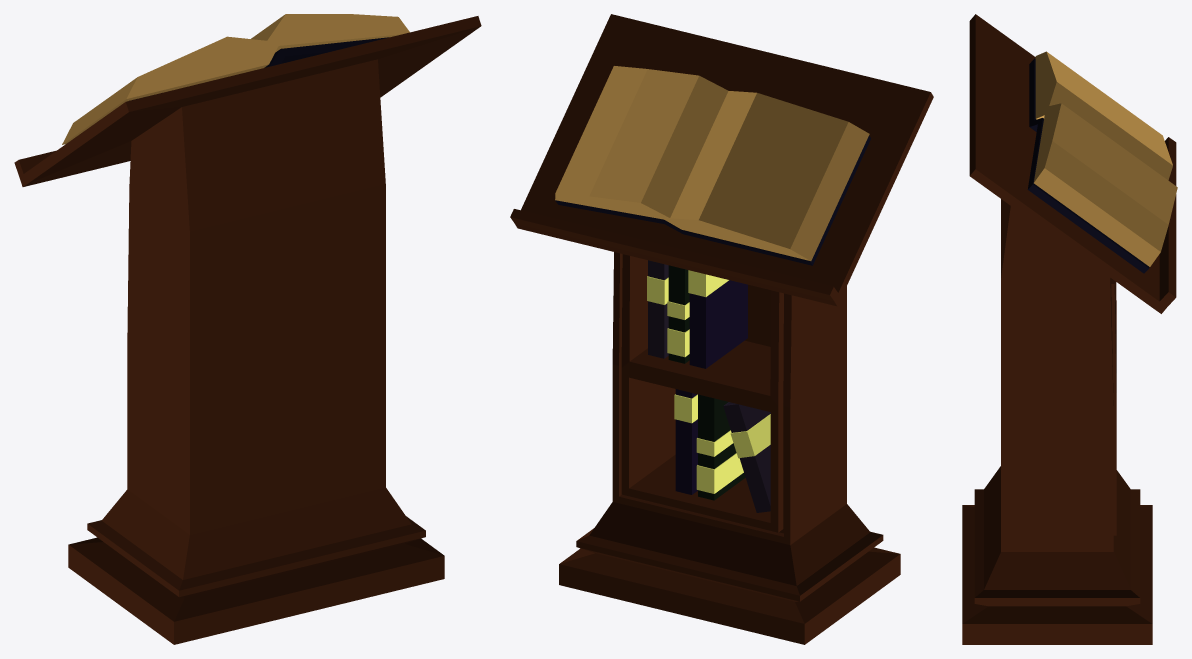
Rendered from Podium.fbx.
3 renders of one model, left to right at view 1: azimuth 30°, elevation 25°; view 2: azimuth 150°, elevation 25°; view 3: azimuth 270°, elevation 25°, orthographic. The views are drawn at different scales.
Visible parts, largest first — view 1: 1, Node 0; view 2: 1, Node 0, Node 3, Node 5, Node 4, Node 6, Node 2, Node 1; view 3: 1, Node 0.
Boxes of the visible parts, box(x1,y1,x2,y2) form: 1: box(14, 16, 481, 644); Node 0: box(62, 14, 409, 144); 1: box(510, 14, 933, 644); Node 0: box(555, 66, 870, 265); Node 3: box(688, 270, 747, 368); Node 5: box(696, 394, 745, 500); Node 4: box(723, 402, 770, 512); Node 6: box(674, 389, 697, 494); Node 2: box(667, 265, 689, 363); Node 1: box(647, 260, 668, 358); 1: box(962, 14, 1176, 644); Node 0: box(1027, 51, 1177, 273).
Bounding box in the file's own units: 0.4314 × 1.09 × 0.7344.
